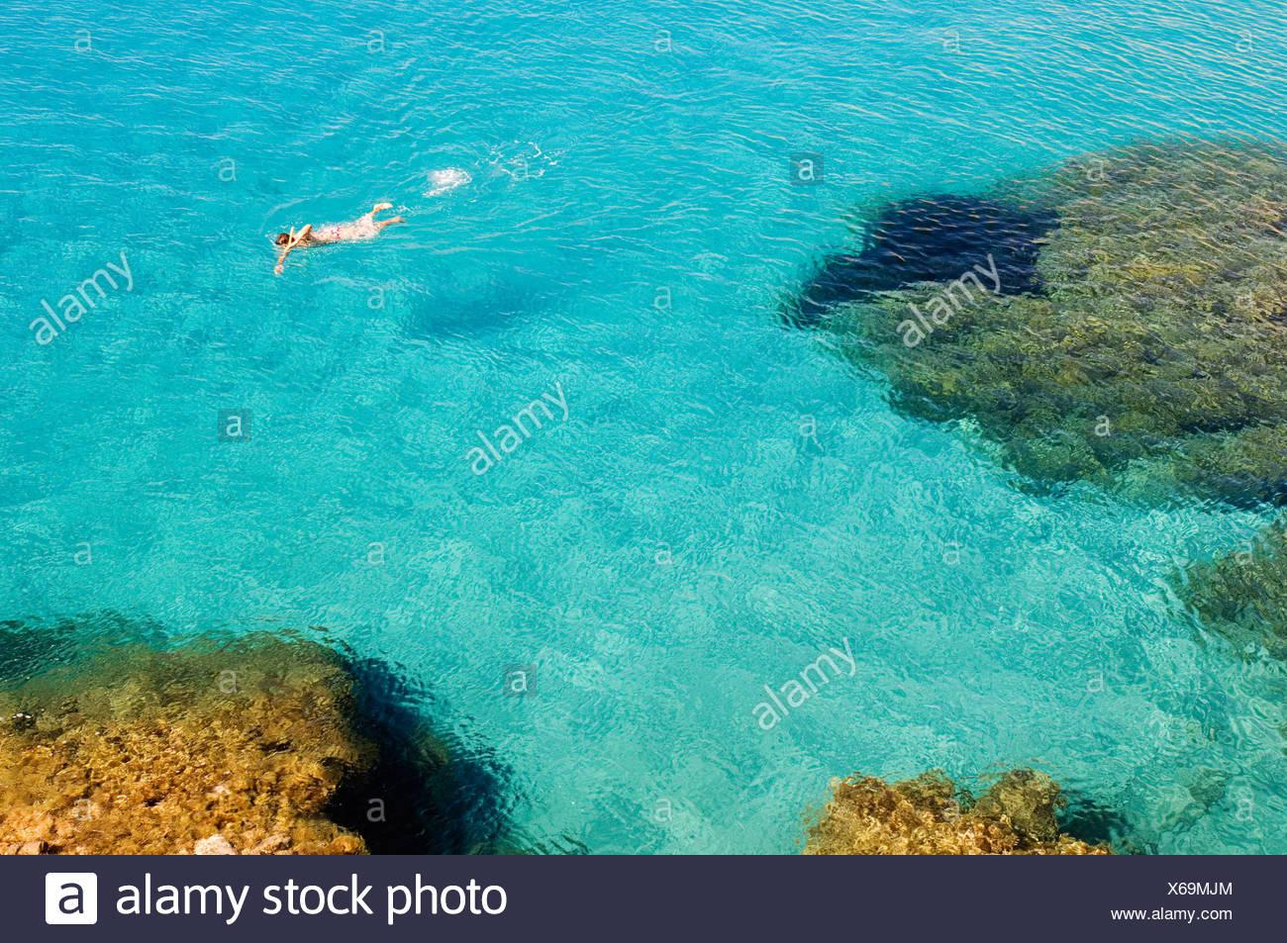swimmer: (273, 195, 406, 277)
